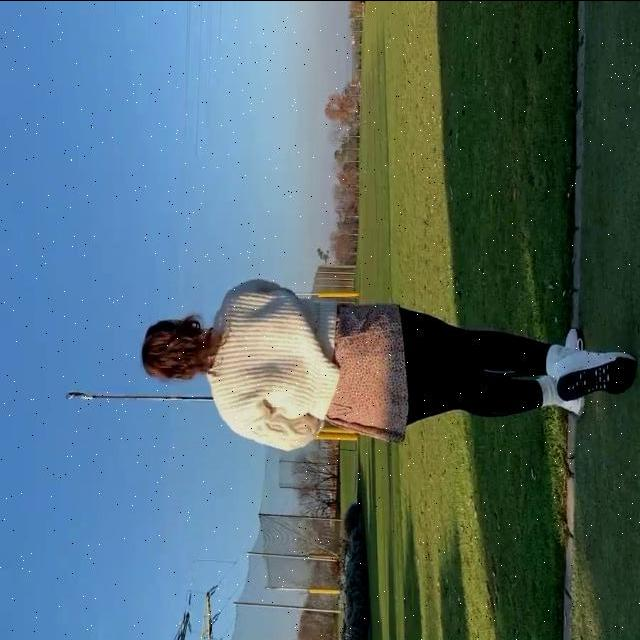golf club-handle: (66, 387, 215, 406)
golf club-head: (67, 386, 86, 402)
